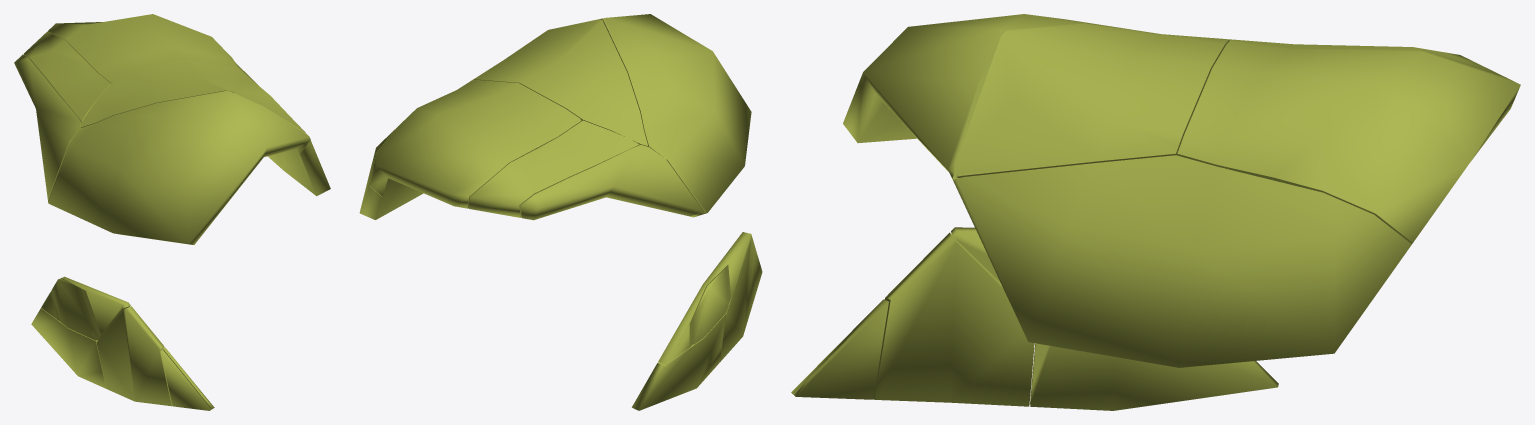
The model's file is Plaque_02.fbx.
3 views of the same model, side by side, from view 1: azimuth 30°, elevation 25°; view 2: azimuth 150°, elevation 25°; view 3: azimuth 270°, elevation 25° (orthographic). The views are drawn at different scales.
Visible parts, largest first — view 1: tooth_d.038_cell.002, tooth_d.038_cell.001, tooth_d.038_cell.004, tooth_d.051_cell.005, tooth_d.038_cell, tooth_d.038_cell.003, tooth_d.051_cell.002, tooth_d.038_cell.005, tooth_d.051_cell, tooth_d.051_cell.003, tooth_d.051_cell.004, tooth_d.051_cell.001; view 2: tooth_d.038_cell.002, tooth_d.038_cell.001, tooth_d.038_cell.004, tooth_d.038_cell.003, tooth_d.038_cell, tooth_d.051_cell.002, tooth_d.051_cell, tooth_d.051_cell.005, tooth_d.038_cell.005, tooth_d.051_cell.003; view 3: tooth_d.038_cell.005, tooth_d.038_cell.001, tooth_d.038_cell.004, tooth_d.051_cell.005, tooth_d.038_cell.002, tooth_d.051_cell.002, tooth_d.051_cell.001, tooth_d.038_cell, tooth_d.051_cell.
Boxes of the visible parts, x1,y1,x2,y2 form: tooth_d.038_cell.002: [48, 90, 310, 244]; tooth_d.038_cell.001: [48, 14, 237, 83]; tooth_d.038_cell.004: [80, 58, 304, 131]; tooth_d.051_cell.005: [96, 306, 172, 406]; tooth_d.038_cell: [23, 31, 110, 122]; tooth_d.038_cell.003: [14, 54, 81, 199]; tooth_d.051_cell.002: [31, 308, 106, 388]; tooth_d.038_cell.005: [230, 56, 330, 196]; tooth_d.051_cell: [41, 276, 130, 339]; tooth_d.051_cell.003: [51, 278, 98, 340]; tooth_d.051_cell.004: [160, 349, 211, 410]; tooth_d.051_cell.001: [163, 347, 214, 408]; tooth_d.038_cell.002: [600, 14, 751, 217]; tooth_d.038_cell.001: [369, 79, 581, 208]; tooth_d.038_cell.004: [473, 19, 647, 146]; tooth_d.038_cell.003: [520, 145, 703, 220]; tooth_d.038_cell: [468, 120, 639, 217]; tooth_d.051_cell.002: [632, 313, 725, 410]; tooth_d.051_cell: [658, 232, 751, 364]; tooth_d.051_cell.005: [720, 235, 755, 361]; tooth_d.038_cell.005: [359, 129, 423, 219]; tooth_d.051_cell.003: [693, 269, 728, 344]; tooth_d.038_cell.005: [953, 155, 1411, 367]; tooth_d.038_cell.001: [1177, 41, 1520, 243]; tooth_d.038_cell.004: [956, 24, 1228, 177]; tooth_d.051_cell.005: [873, 232, 1034, 406]; tooth_d.038_cell.002: [843, 14, 1135, 180]; tooth_d.051_cell.002: [1030, 343, 1278, 410]; tooth_d.051_cell.001: [794, 300, 888, 399]; tooth_d.038_cell: [1213, 38, 1507, 78]; tooth_d.051_cell: [951, 227, 999, 281].
Bounding box in the file's own units: 73.51 × 76.24 × 107.
